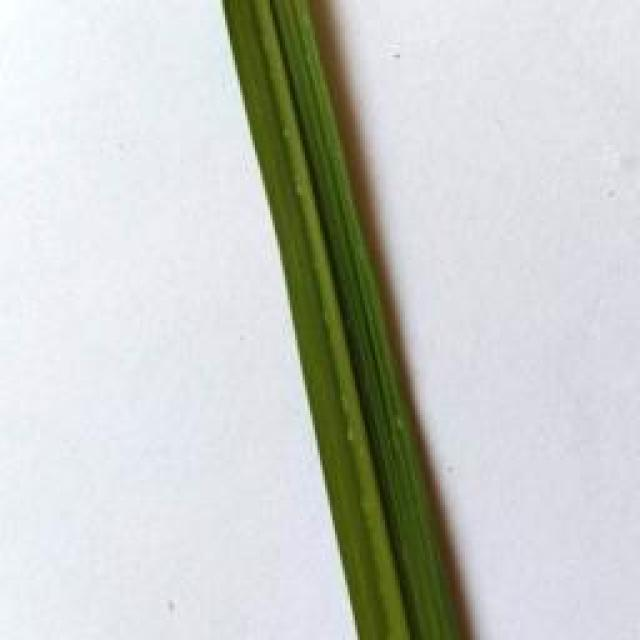Healthy-Plant: (223, 0, 467, 640)
